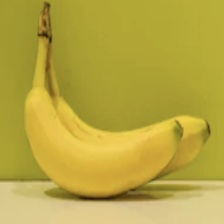banana: (20, 14, 185, 167)
